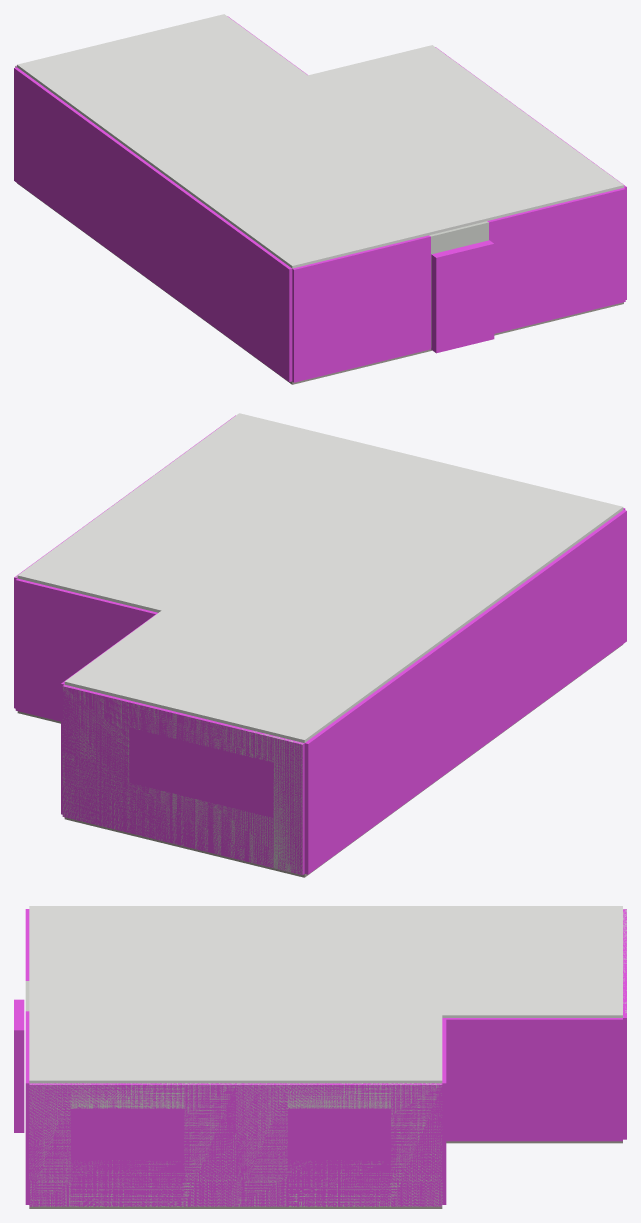
Rendered from prologue_academy_blockout.glb.
3 renders of one model, top to bottom at view 1: azimuth 30°, elevation 25°; view 2: azimuth 150°, elevation 25°; view 3: azimuth 270°, elevation 25°, orthographic. The views are drawn at different scales.
Parts seen in each view (by area): view 1: study_ceiling, lobby_ceiling.001, col_study_ww_0, col_lobby_ws_0, col_lobby_ws_1, office_ceiling, col_lobby_ww_0.001, col_exit_stop, lobby_ws_head0, lobby_floor.001; view 2: study_ceiling, lobby_ceiling.001, col_study_wn_1, col_study_ww_0, office_ceiling, col_lobby_ww_0.001, col_office_wn_0, study_wn_sill0, study_wn_s1, study_wn_s0, study_wn_head0, study_floor; view 3: study_ceiling, lobby_ceiling.001, col_office_we_1, col_lobby_we_1, col_study_we_0, office_ceiling, office_we_s0, lobby_we_s1, office_we_s1, lobby_we_s0.001, lobby_we_head0, office_we_head0 (+9 smaller).
Boxes of the visible parts, x1=… form: study_ceiling: x1=17, y1=14, x2=403, y2=198; lobby_ceiling.001: x1=196, y1=115, x2=623, y2=268; col_study_ww_0: x1=14, y1=67, x2=195, y2=311; col_lobby_ws_0: x1=292, y1=235, x2=430, y2=382; col_lobby_ws_1: x1=487, y1=188, x2=625, y2=333; office_ceiling: x1=308, y1=45, x2=527, y2=145; col_lobby_ww_0.001: x1=193, y1=198, x2=292, y2=381; col_exit_stop: x1=431, y1=240, x2=494, y2=353; lobby_ws_head0: x1=429, y1=221, x2=488, y2=259; lobby_floor.001: x1=197, y1=260, x2=623, y2=384; study_ceiling: x1=64, y1=529, x2=512, y2=742; lobby_ceiling.001: x1=129, y1=413, x2=623, y2=590; col_study_wn_1: x1=62, y1=684, x2=304, y2=874; col_study_ww_0: x1=304, y1=591, x2=515, y2=874; office_ceiling: x1=17, y1=494, x2=271, y2=612; col_lobby_ww_0.001: x1=513, y1=510, x2=626, y2=722; col_office_wn_0: x1=15, y1=578, x2=157, y2=721; study_wn_sill0: x1=129, y1=783, x2=273, y2=867; study_wn_s1: x1=62, y1=686, x2=129, y2=832; study_wn_s0: x1=273, y1=736, x2=303, y2=874; study_wn_head0: x1=129, y1=704, x2=274, y2=761; study_floor: x1=64, y1=725, x2=512, y2=877; study_ceiling: x1=236, y1=906, x2=622, y2=1017; lobby_ceiling.001: x1=29, y1=906, x2=235, y2=1083; col_office_we_1: x1=236, y1=1083, x2=442, y2=1206; col_lobby_we_1: x1=29, y1=1083, x2=235, y2=1206; col_study_we_0: x1=446, y1=1018, x2=622, y2=1141; office_ceiling: x1=236, y1=1015, x2=442, y2=1083; office_we_s0: x1=236, y1=1083, x2=287, y2=1206; lobby_we_s1: x1=184, y1=1083, x2=235, y2=1206; office_we_s1: x1=391, y1=1083, x2=442, y2=1206; lobby_we_s0.001: x1=29, y1=1083, x2=70, y2=1206; lobby_we_head0: x1=70, y1=1083, x2=184, y2=1108; office_we_head0: x1=287, y1=1083, x2=390, y2=1108.
Size of the model in its own units: 8.15 by 2.74 by 11.87.
